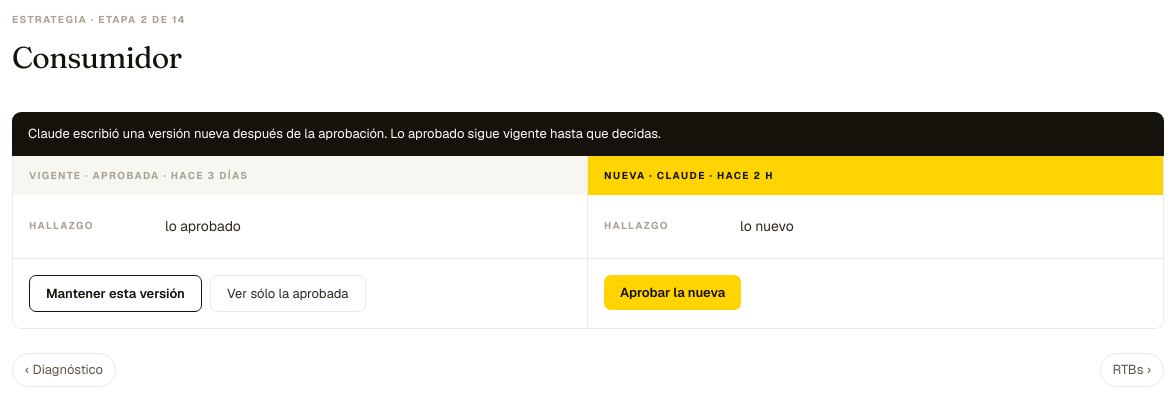
Test: EstrategiaWorkspace · borrador nuevo sobre etapa aprobada › “Ver sólo la aprobada” deja el documento aprobado y no toca el servidor
Click the button "Ver sólo la aprobada".
click(288, 293)  # box [210,275,366,312]
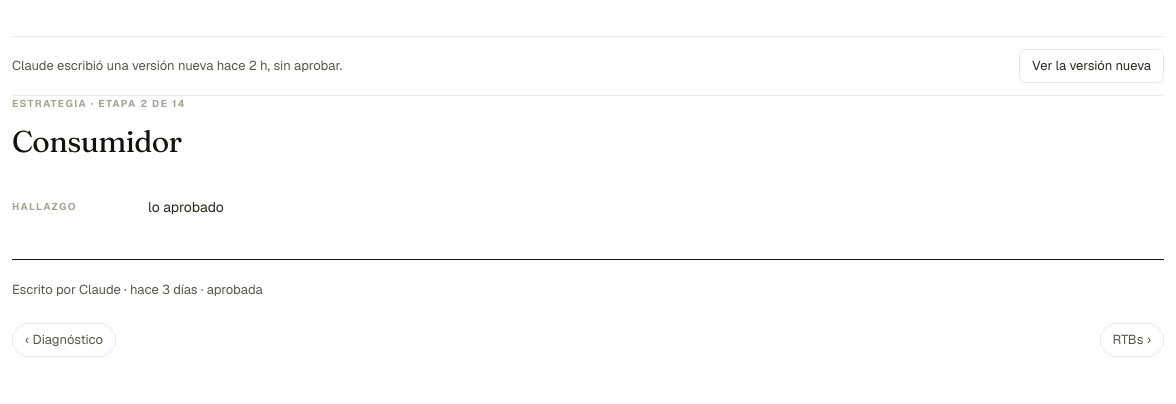
Expected: the text "lo aprobado" is shown, [148,198,224,216]
Now the text "lo nuevo" is gone
